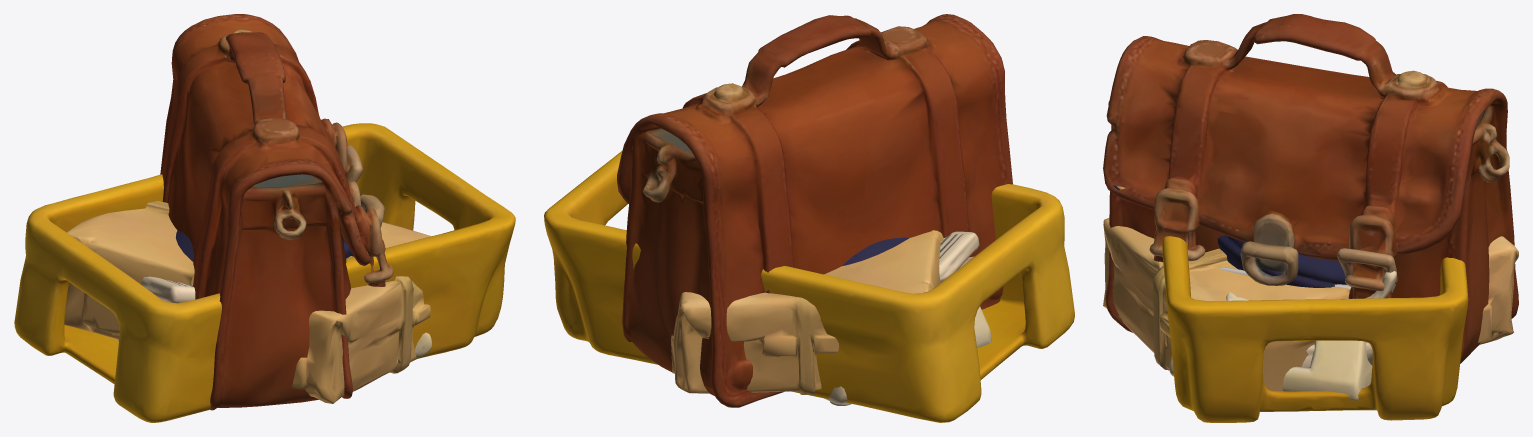
Rendered from poste.glb.
The picture shows the model from 3 angles, left to right: view 1: azimuth 30°, elevation 25°; view 2: azimuth 150°, elevation 25°; view 3: azimuth 270°, elevation 25°; orthographic projection. The views are drawn at different scales.
Visible parts, largest first — view 1: sacoche-facteur, bac-courrier, colis, journal-plie; view 2: sacoche-facteur, bac-courrier, colis, journal-plie, balance-colis, casquette-facteur; view 3: sacoche-facteur, bac-courrier, colis, balance-colis, casquette-facteur, journal-plie.
Part boxes in pixels (x1,y1,x2,y2): sacoche-facteur: [160, 14, 393, 410]; bac-courrier: [14, 123, 515, 422]; colis: [64, 201, 430, 403]; journal-plie: [141, 241, 411, 303]; sacoche-facteur: [617, 14, 1012, 407]; bac-courrier: [544, 150, 1074, 422]; colis: [671, 230, 943, 394]; journal-plie: [939, 231, 979, 282]; balance-colis: [824, 306, 991, 405]; casquette-facteur: [842, 237, 909, 265]; sacoche-facteur: [1103, 14, 1518, 363]; bac-courrier: [1162, 236, 1468, 422]; colis: [1103, 218, 1518, 390]; balance-colis: [1169, 266, 1372, 400]; casquette-facteur: [1217, 235, 1347, 287]; journal-plie: [1226, 271, 1396, 367].
Bounding box in the file's own units: 0.4499 × 0.3287 × 0.4.
Materials: 4 (4 with a texture image).
